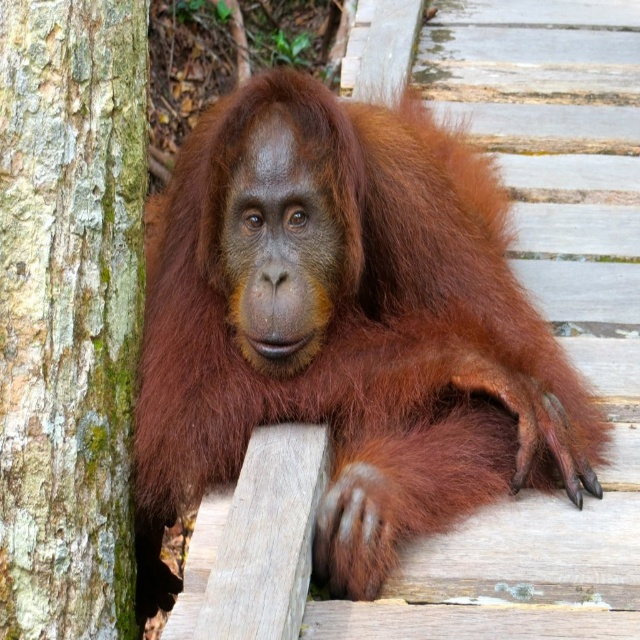Monkey: (130, 67, 614, 602)
